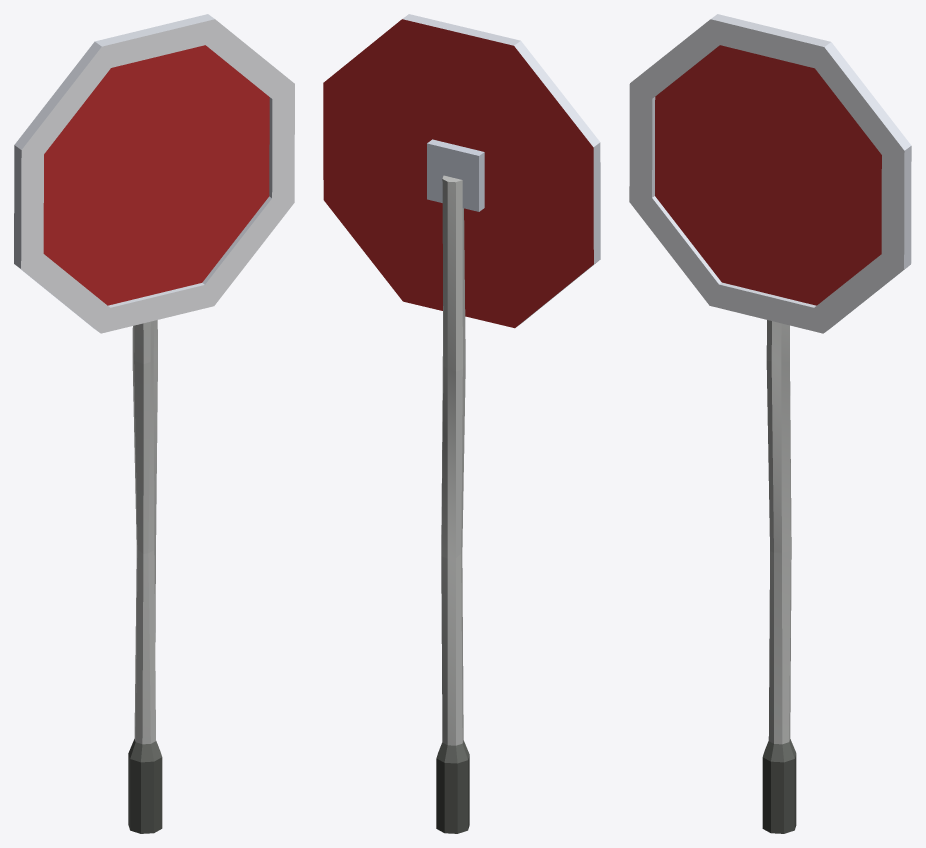
File: Stop_Sign.glb
The picture shows the model from 3 angles, left to right: view 1: azimuth 30°, elevation 25°; view 2: azimuth 150°, elevation 25°; view 3: azimuth 330°, elevation 25°; orthographic projection.
Visible parts, largest first — view 1: StopSign; view 2: StopSign; view 3: StopSign.
Part boxes in pixels (<box>): StopSign: <box>14,14,294,833</box>; StopSign: <box>323,14,600,833</box>; StopSign: <box>629,14,911,833</box>.
Size of what is drawn, in the model's own units: 0.8796 by 2.46 by 0.1206.
1 material, 1 textured.
